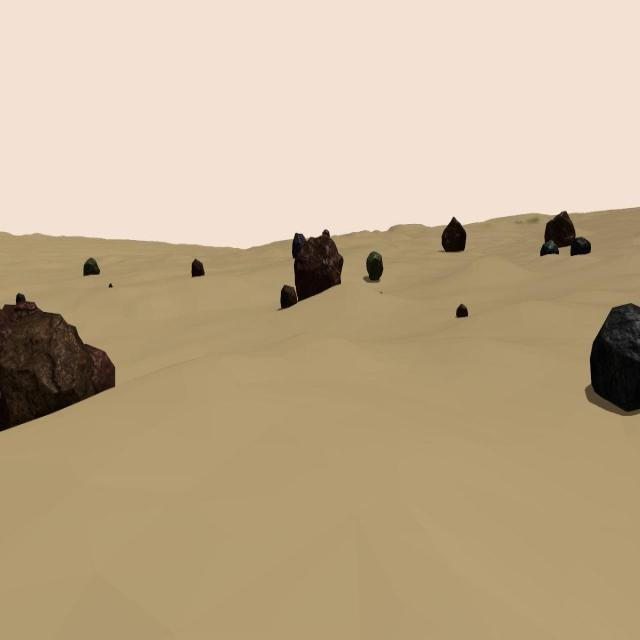rock: (0, 311, 89, 432), (589, 303, 640, 412), (294, 236, 344, 299), (0, 302, 43, 355), (80, 342, 115, 399), (544, 210, 575, 247), (441, 214, 467, 253), (367, 252, 383, 282), (280, 284, 298, 310), (570, 237, 592, 256), (292, 232, 308, 258), (83, 255, 100, 278), (540, 240, 559, 257), (191, 258, 205, 277), (456, 304, 468, 318), (15, 291, 26, 303), (323, 228, 330, 238), (109, 284, 113, 288), (380, 290, 382, 295)
